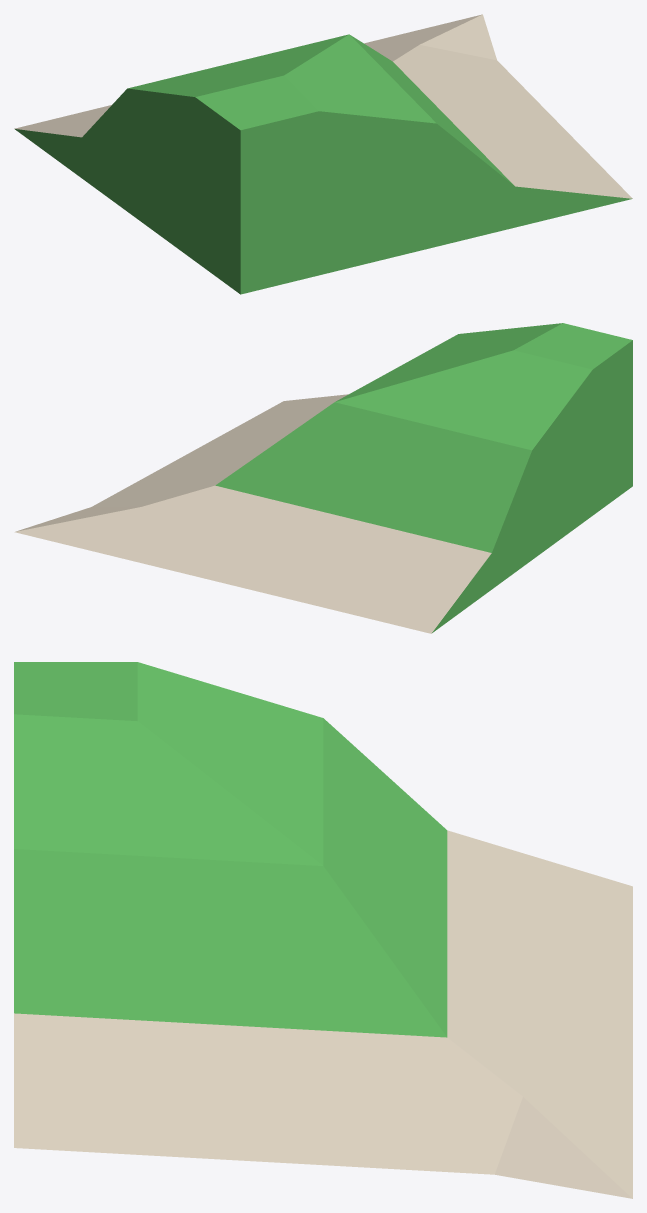
File: Path_Corner_Y_2x2.glb
3 renders of one model, top to bottom at view 1: azimuth 30°, elevation 25°; view 2: azimuth 150°, elevation 25°; view 3: azimuth 270°, elevation 25°, orthographic. The views are drawn at different scales.
Parts seen in each view (by area): view 1: object1; view 2: object1; view 3: object1.
Part boxes in pixels (x1,y1,x2,y2): object1: (14, 14, 632, 294); object1: (14, 323, 632, 633); object1: (14, 662, 632, 1198).
Size of the model in its own units: 0.5974 by 0.2 by 0.5.
